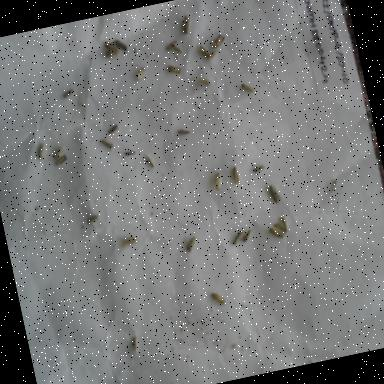pbw: (100, 34, 124, 56), (206, 286, 228, 308), (228, 226, 247, 251), (177, 12, 195, 38), (113, 34, 134, 56), (163, 59, 186, 79), (58, 82, 82, 101), (210, 28, 228, 52), (160, 36, 180, 57), (118, 230, 139, 249), (132, 61, 151, 82), (194, 71, 213, 91), (266, 222, 287, 240), (266, 182, 282, 205), (274, 212, 292, 232), (50, 141, 66, 163), (210, 170, 226, 192), (83, 210, 102, 228), (238, 224, 255, 244), (198, 40, 214, 60), (185, 234, 201, 254), (229, 164, 242, 188), (99, 134, 115, 152), (130, 332, 142, 356), (34, 138, 48, 158), (204, 48, 221, 64), (103, 45, 120, 60), (173, 124, 191, 138), (240, 78, 254, 96), (54, 152, 70, 167), (120, 146, 137, 160), (106, 121, 120, 136), (250, 162, 266, 175), (172, 40, 184, 56), (144, 152, 156, 168)
